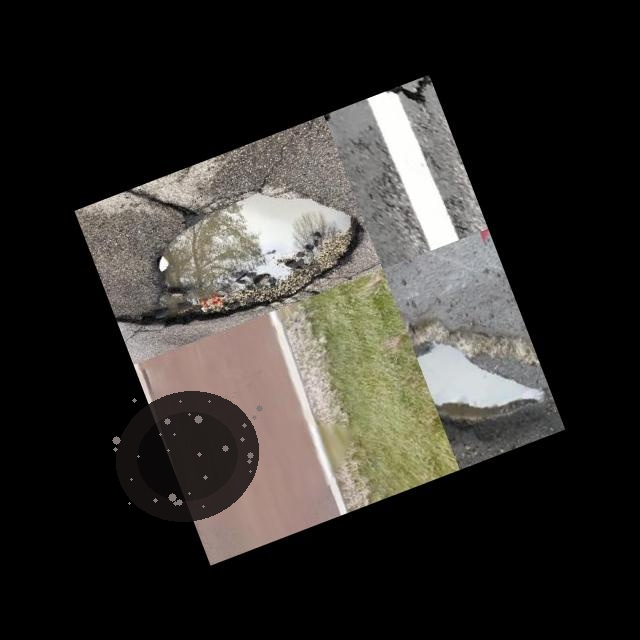pothole: (110, 387, 264, 525)
